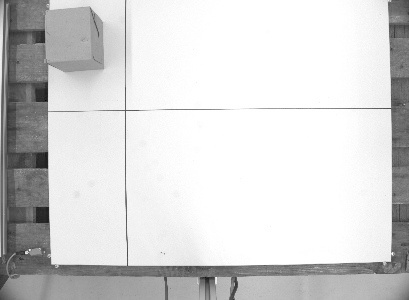b5: (41, 4, 105, 73)
